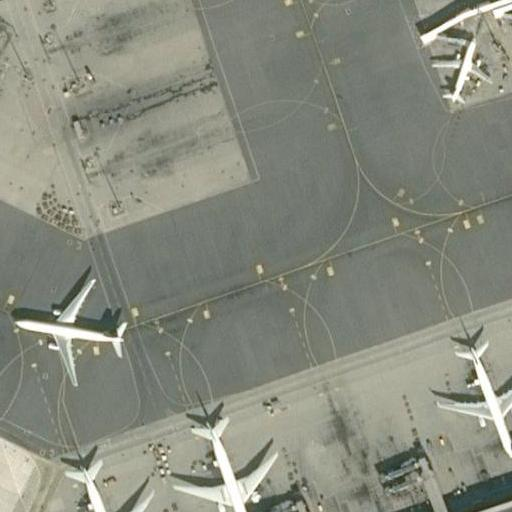Aircraft: (0, 262, 132, 381), (166, 401, 283, 512), (431, 325, 512, 461), (39, 443, 156, 512), (426, 26, 491, 108)
